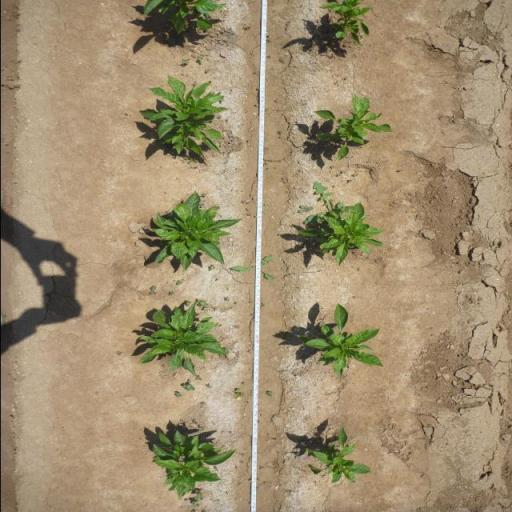plant: (293, 300, 386, 378), (137, 308, 230, 376), (140, 82, 231, 150), (149, 200, 242, 265), (310, 92, 394, 163), (149, 429, 239, 490), (303, 422, 374, 486), (138, 0, 228, 39), (321, 210, 386, 264), (317, 0, 374, 48)
weed: (301, 183, 352, 222), (228, 254, 276, 280), (182, 151, 207, 166), (190, 490, 204, 509), (182, 378, 196, 392), (194, 298, 209, 311), (233, 386, 245, 401), (296, 205, 314, 213), (164, 148, 176, 156), (265, 30, 271, 43), (195, 55, 203, 63), (173, 391, 182, 398), (182, 300, 192, 306), (172, 280, 182, 286), (190, 418, 198, 425), (222, 295, 230, 302), (207, 264, 215, 271), (265, 390, 273, 397), (212, 466, 219, 472), (147, 290, 154, 296), (198, 202, 205, 208), (192, 319, 200, 324), (278, 58, 284, 64), (352, 172, 358, 178), (196, 375, 202, 381), (206, 382, 212, 388), (259, 302, 265, 308), (259, 464, 265, 470), (204, 67, 210, 73), (198, 426, 205, 431), (232, 301, 239, 306), (207, 90, 215, 94), (181, 60, 189, 64), (285, 20, 291, 25), (340, 169, 346, 174), (182, 497, 188, 502), (168, 291, 174, 296), (200, 192, 206, 197), (191, 81, 197, 86), (149, 286, 156, 290), (228, 430, 234, 434), (245, 212, 251, 216), (220, 98, 226, 102), (347, 178, 352, 182), (333, 81, 339, 84), (190, 509, 196, 512), (214, 278, 220, 281), (240, 200, 246, 203), (342, 76, 346, 80), (336, 174, 340, 178), (234, 466, 238, 470), (214, 116, 222, 118), (397, 169, 402, 172), (247, 301, 252, 304), (240, 382, 245, 385), (332, 185, 336, 188), (240, 454, 246, 456), (240, 461, 244, 464), (200, 402, 206, 404), (248, 345, 254, 347), (247, 350, 251, 353), (246, 401, 250, 404), (256, 478, 260, 481), (216, 92, 222, 94), (266, 56, 271, 58), (329, 166, 334, 168), (245, 202, 250, 204), (245, 208, 250, 210), (257, 421, 260, 424), (162, 364, 164, 368), (249, 314, 253, 316), (165, 212, 168, 214), (254, 215, 256, 218), (226, 288, 228, 290)
